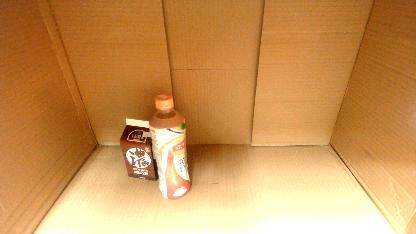Plastic Bottle: (148, 93, 193, 201)
